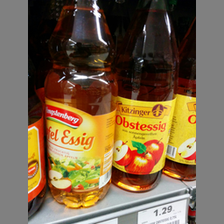vinegar: (43, 1, 114, 207), (114, 1, 172, 193)
